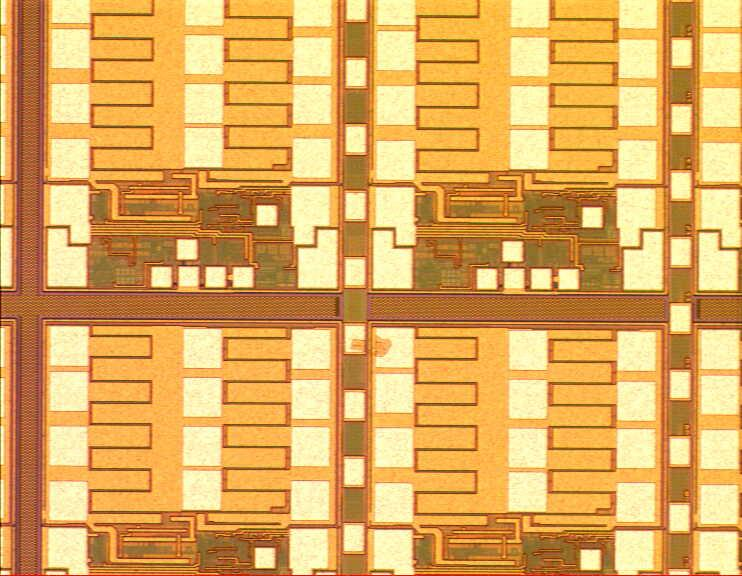BLOCK ETCH: (347, 324, 397, 365)
